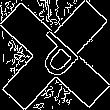P_SE: (24, 24, 86, 86)
